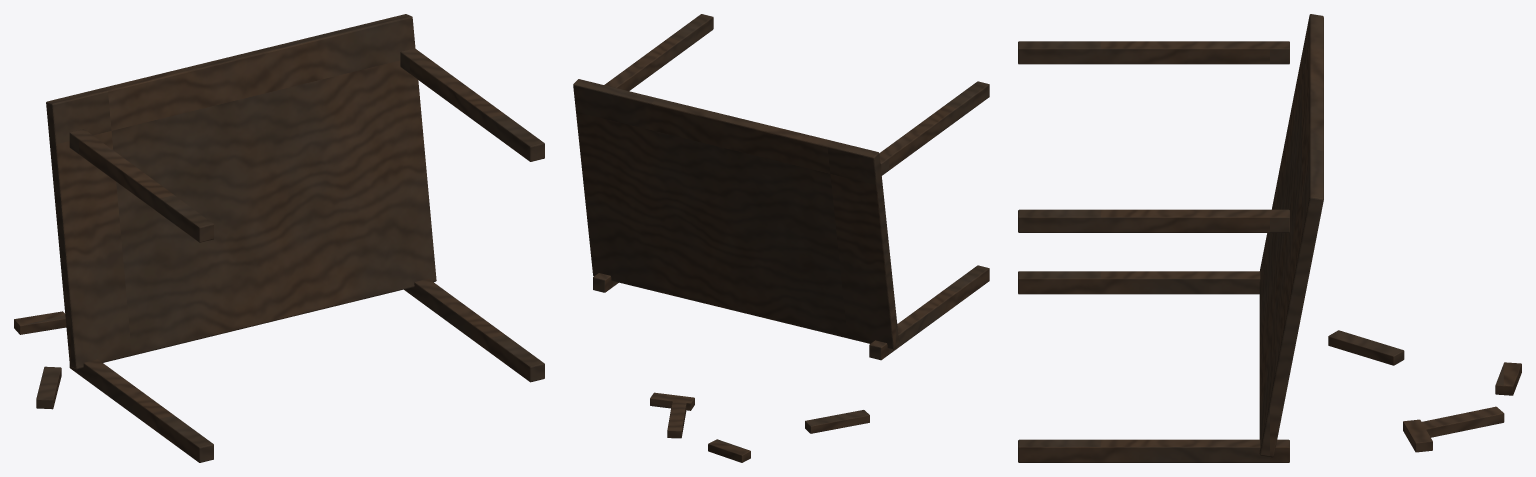
The model's file is BR02_broken_table_v3.glb.
3 views of the same model, side by side, from view 1: azimuth 30°, elevation 25°; view 2: azimuth 150°, elevation 25°; view 3: azimuth 270°, elevation 25° (orthographic). The views are drawn at different scales.
Parts seen in each view (by area): view 1: BR02_broken_table_v3; view 2: BR02_broken_table_v3; view 3: BR02_broken_table_v3.
Boxes of the visible parts, left/top/right/bottom form: BR02_broken_table_v3: left=14, top=14, right=544, bottom=462; BR02_broken_table_v3: left=573, top=14, right=989, bottom=462; BR02_broken_table_v3: left=1018, top=14, right=1521, bottom=462.
Size of the model in its own units: 1.04 by 0.8606 by 1.2.
Materials: 1 (1 with a texture image).
